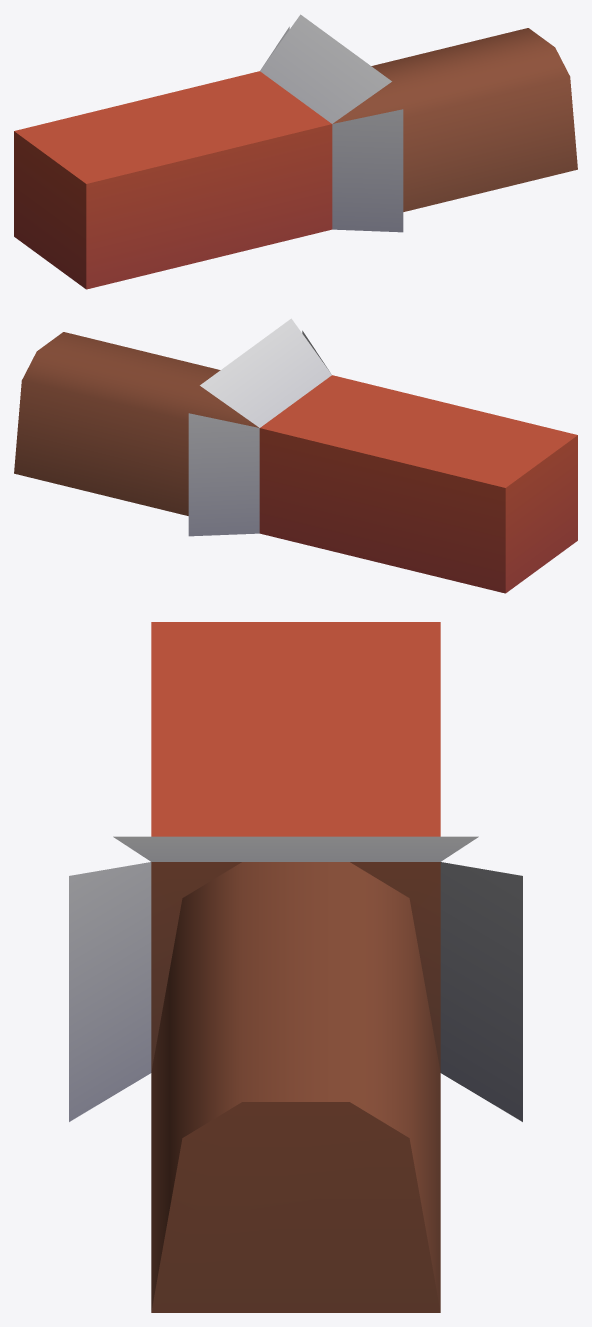
Rendered from candy-bar-wrapper.glb.
3 renders of one model, top to bottom at view 1: azimuth 30°, elevation 25°; view 2: azimuth 150°, elevation 25°; view 3: azimuth 270°, elevation 25°, orthographic. The views are drawn at different scales.
Visible parts, largest first — view 1: candy-bar-wrapper; view 2: candy-bar-wrapper; view 3: candy-bar-wrapper.
Boxes of the visible parts, box(x1,y1,x2,y2) form: candy-bar-wrapper: box(14, 14, 577, 289); candy-bar-wrapper: box(14, 318, 577, 593); candy-bar-wrapper: box(69, 622, 522, 1312).
Bounding box in the file's own units: 0.2924 × 0.0812 × 0.1169.
